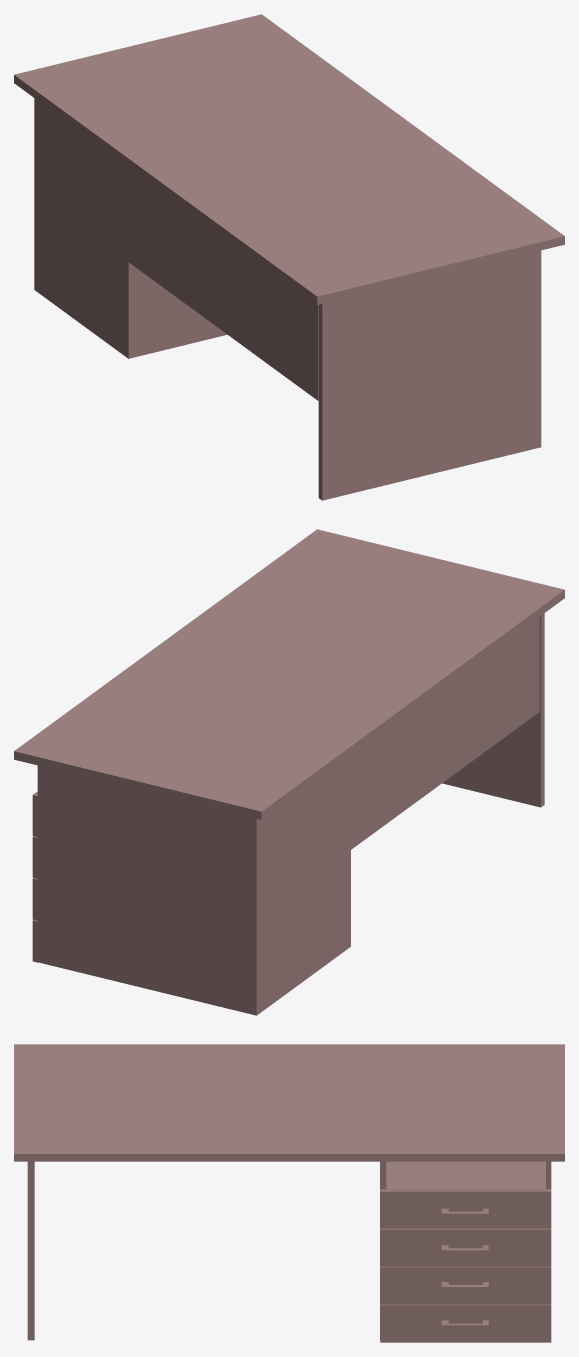
Rendered from desk.glb.
3 views of the same model, one above another, from view 1: azimuth 30°, elevation 25°; view 2: azimuth 150°, elevation 25°; view 3: azimuth 270°, elevation 25° (orthographic). The views are drawn at different scales.
Visible parts, largest first — view 1: Cube.013; view 2: Cube.013; view 3: Cube.013.
Part boxes in pixels (x1=…): Cube.013: x1=14, y1=14, x2=564, y2=500; Cube.013: x1=14, y1=529, x2=564, y2=1015; Cube.013: x1=14, y1=1044, x2=564, y2=1342.
Size of the model in its own units: 4.55 by 3.74 by 9.64.
